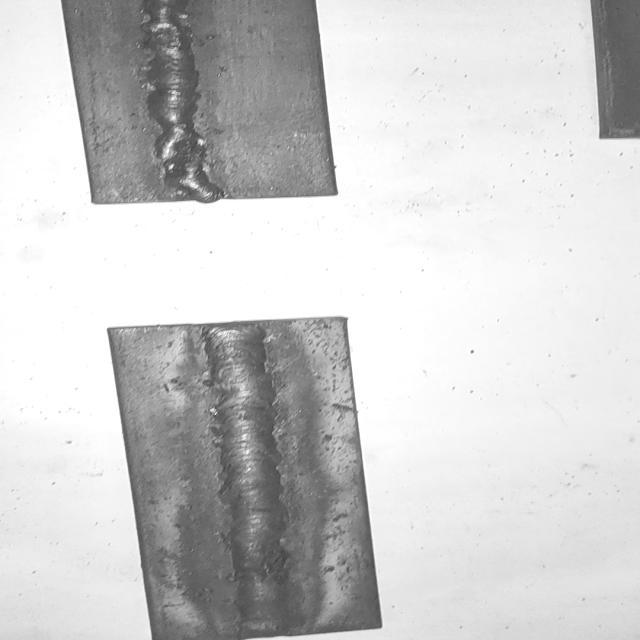Defect: (134, 122, 239, 196)
Welding Line: (202, 327, 294, 636), (141, 0, 217, 196)
Workpiece: (101, 312, 387, 640), (47, 0, 350, 208)
